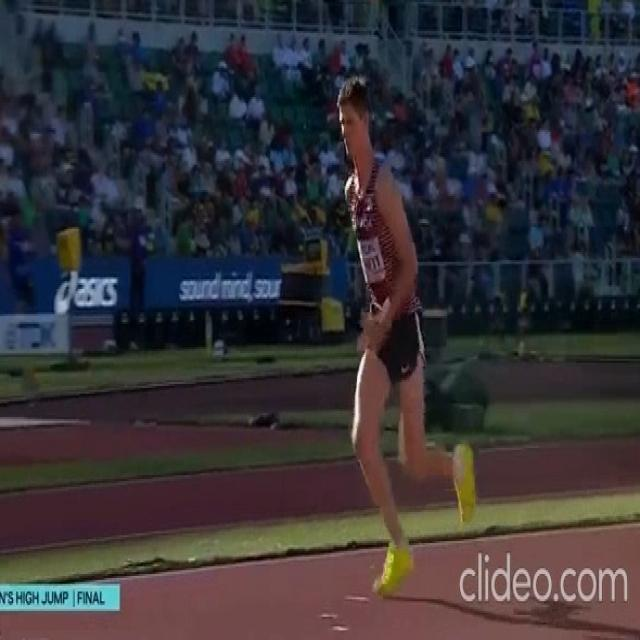run: (335, 85, 478, 596)
